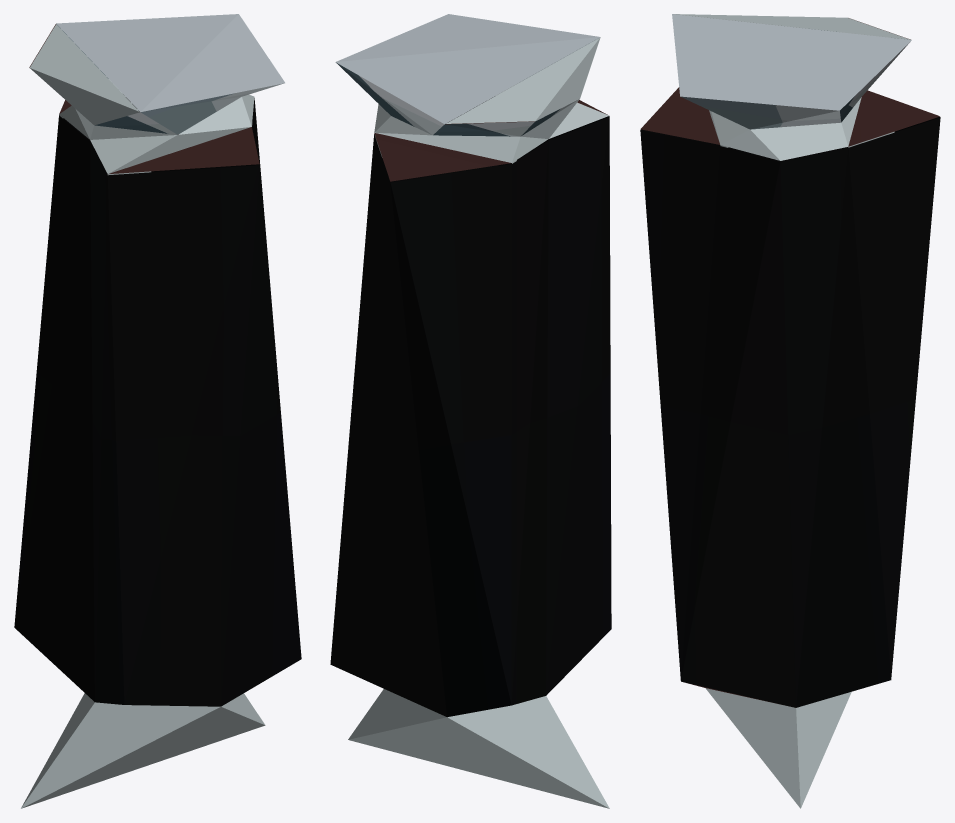
Rendered from wjyz012-geode.glb.
The picture shows the model from 3 angles, left to right: view 1: azimuth 30°, elevation 25°; view 2: azimuth 150°, elevation 25°; view 3: azimuth 270°, elevation 25°; orthographic projection.
Parts seen in each view (by area): view 1: Node; view 2: Node; view 3: Node.
Part boxes in pixels (bbox=[...]): Node: bbox=[14, 14, 301, 808]; Node: bbox=[330, 14, 611, 808]; Node: bbox=[640, 14, 940, 808].
Size of the model in its own units: 0.1698 by 0.4597 by 0.1745.
1 material, 1 textured.
